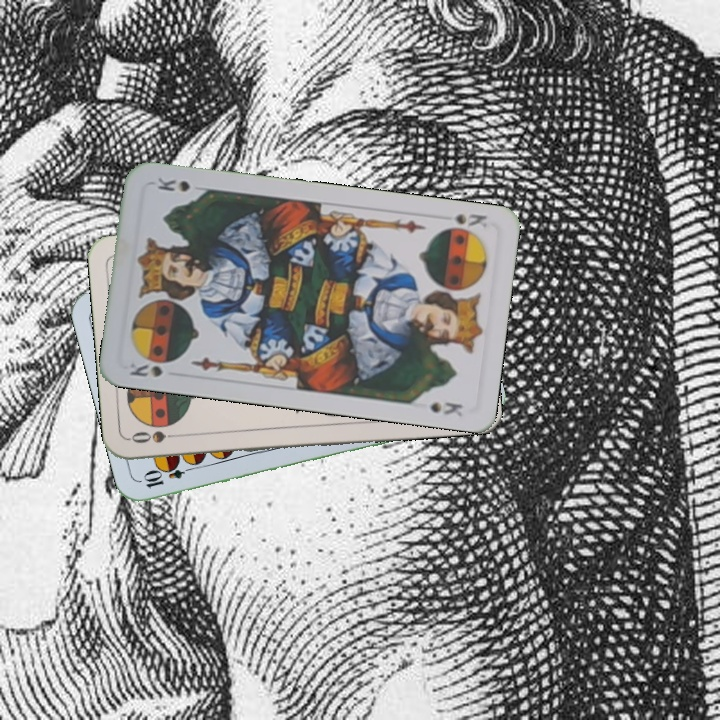E10: (139, 460, 198, 491)
SK: (435, 209, 490, 237), (125, 359, 165, 380)
SO: (127, 427, 186, 446)
